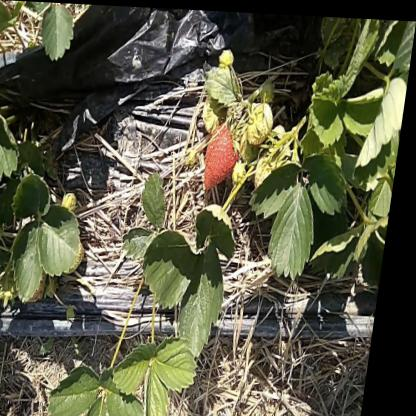ripe: (208, 120, 246, 187), (20, 251, 61, 308), (258, 148, 290, 193), (65, 230, 97, 274), (248, 102, 278, 140), (219, 43, 237, 67), (66, 192, 84, 210)
